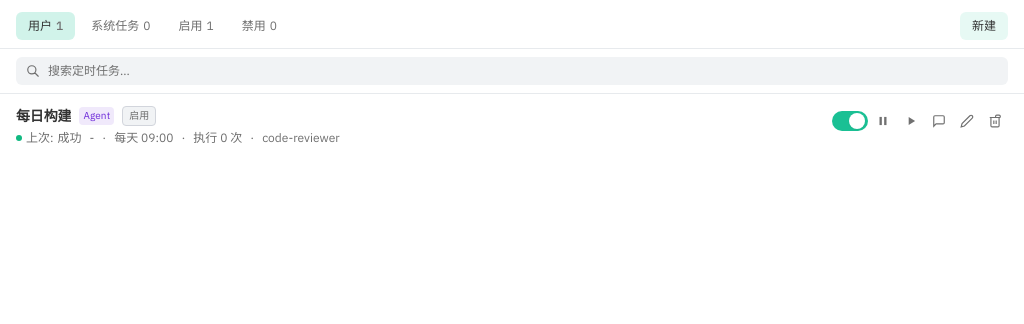
行内展开的形态（B1） › 展开状态声明在行内「执行记录」按钮上（A6：行本体不再是 disclosure），点行即就地展开、再点收起
Click the button "每日构建 Agent 启用 上次: 成功 - · 每天 09:00 · 执行 0 次 · code-reviewer" at {"x": 44, "y": 116}, box 16,106 -> 820,146
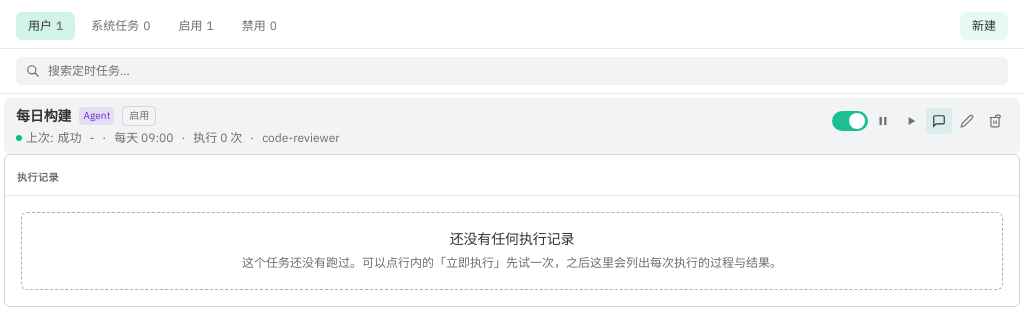
Result: the text "还没有任何执行记录" is shown at 450,230 -> 574,248
Click the button "每日构建 Agent 启用 上次: 成功 - · 每天 09:00 · 执行 0 次 · code-reviewer" at {"x": 44, "y": 116}, box 16,106 -> 820,146
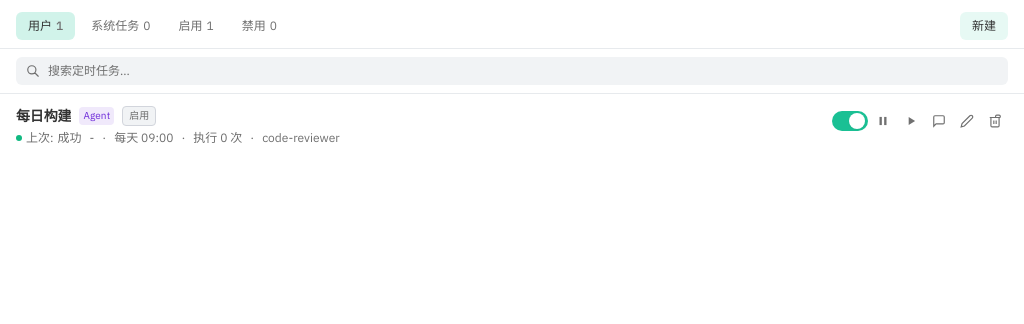
Result: the text "还没有任何执行记录" is gone
